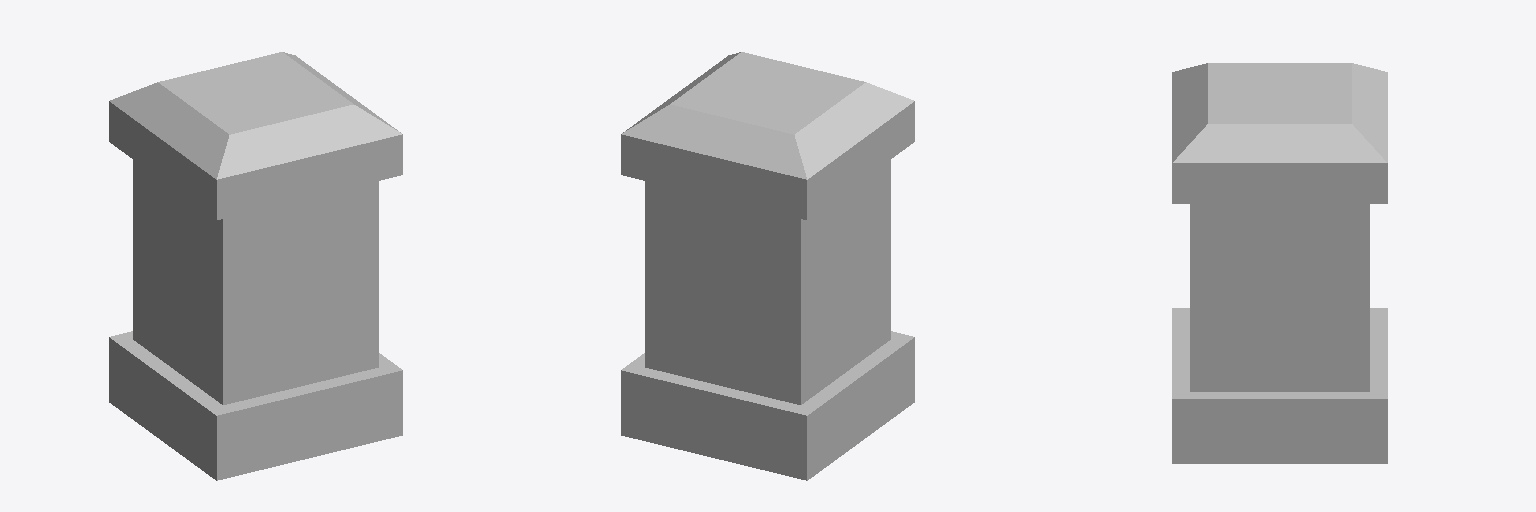
The model's file is Rail_End.obj.
The picture shows the model from 3 angles: view 1: azimuth 30°, elevation 25°; view 2: azimuth 150°, elevation 25°; view 3: azimuth 270°, elevation 25°; orthographic projection.
Visible parts, largest first — view 1: object1; view 2: object1; view 3: object1.
Part boxes in pixels (x1,y1,x2,y2): object1: (109,52,402,480); object1: (621,52,914,480); object1: (1172,63,1387,463).
Bounding box in the file's own units: 0.3 × 0.5 × 0.3.